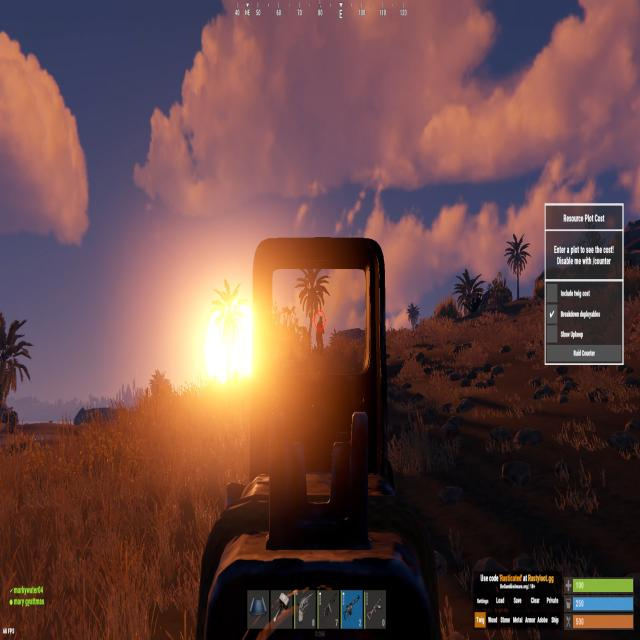Player: (316, 314, 326, 354)
